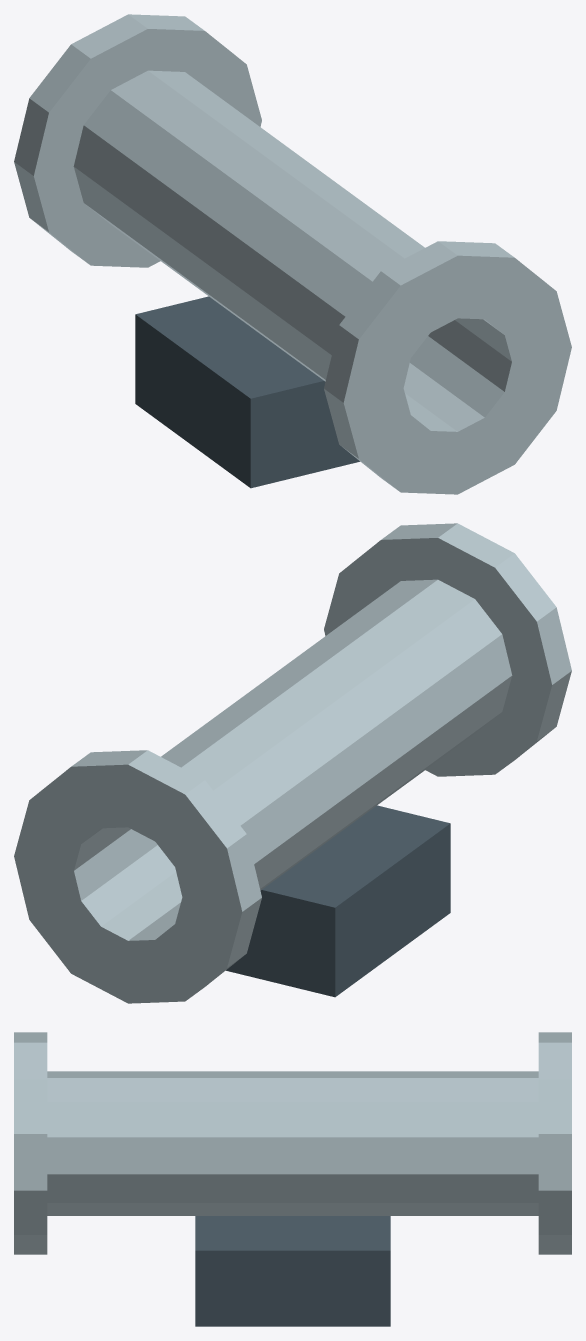
Rendered from flanged-process-pipe.glb.
The picture shows the model from 3 angles, top to bottom: view 1: azimuth 30°, elevation 25°; view 2: azimuth 150°, elevation 25°; view 3: azimuth 270°, elevation 25°; orthographic projection. The views are drawn at different scales.
Visible parts, largest first — view 1: steel, dark; view 2: steel, dark; view 3: steel, dark.
Boxes of the visible parts, <box> form: steel: <box>14,14,571,494</box>; dark: <box>135,296,359,488</box>; steel: <box>14,523,571,1003</box>; dark: <box>226,805,450,997</box>; steel: <box>14,1032,571,1254</box>; dark: <box>195,1216,390,1326</box>.
Size of the model in its own units: 0.3999 by 0.48 by 1.
